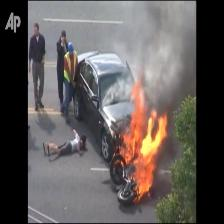fire: (120, 76, 167, 200)
